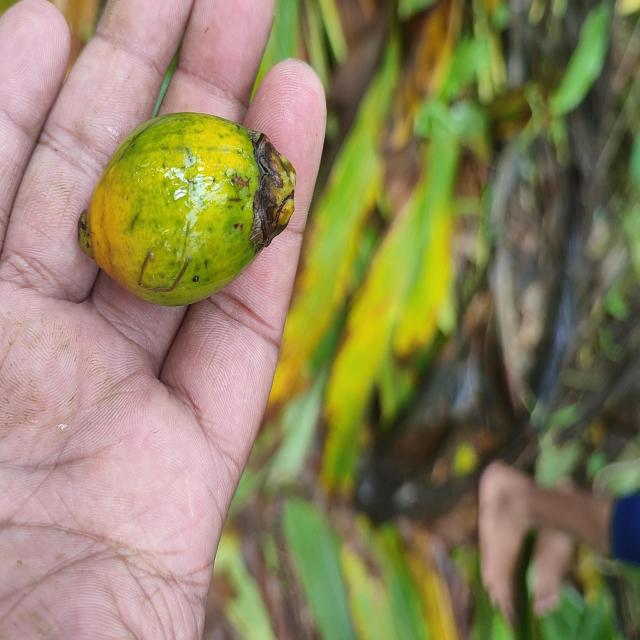damaged: (73, 112, 296, 310)
